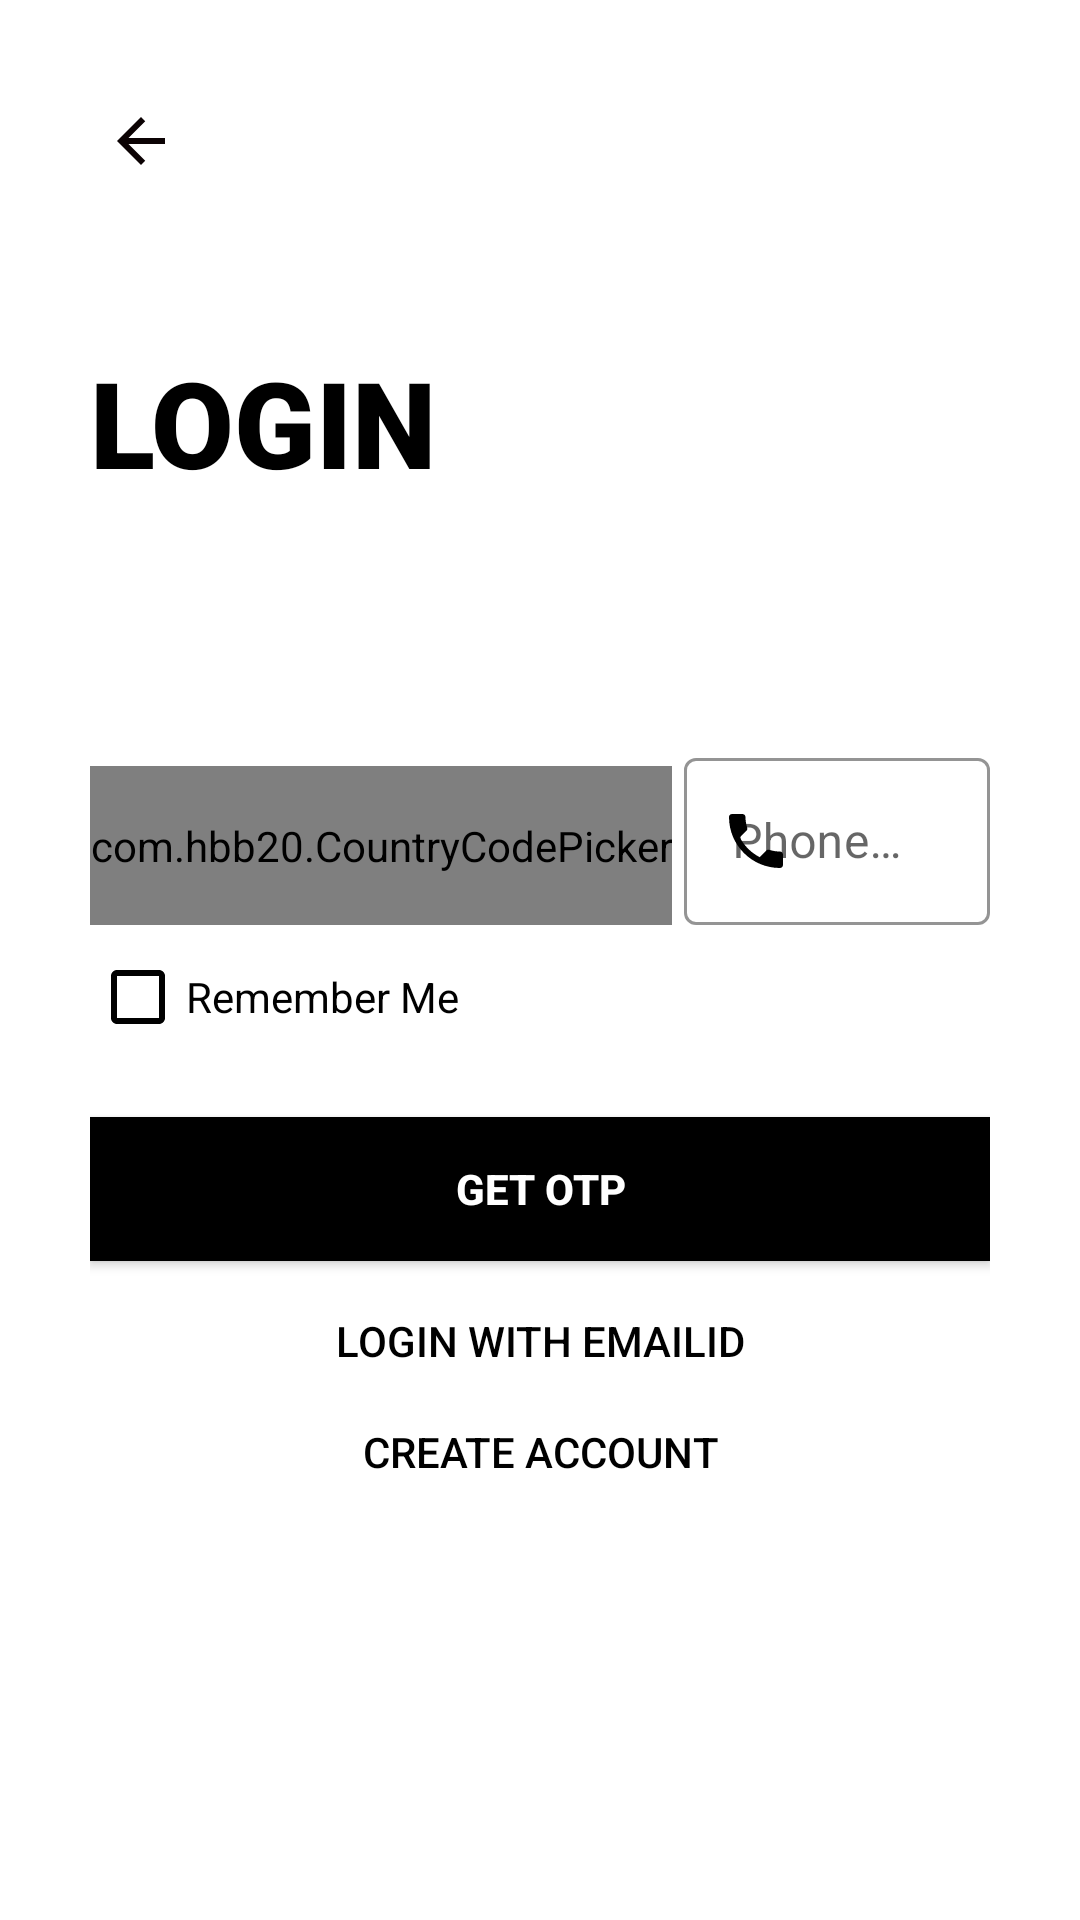

Icon click points for this 1080px×1920px phone screenshot, format [x,y]:
arrow back: [141,141]
